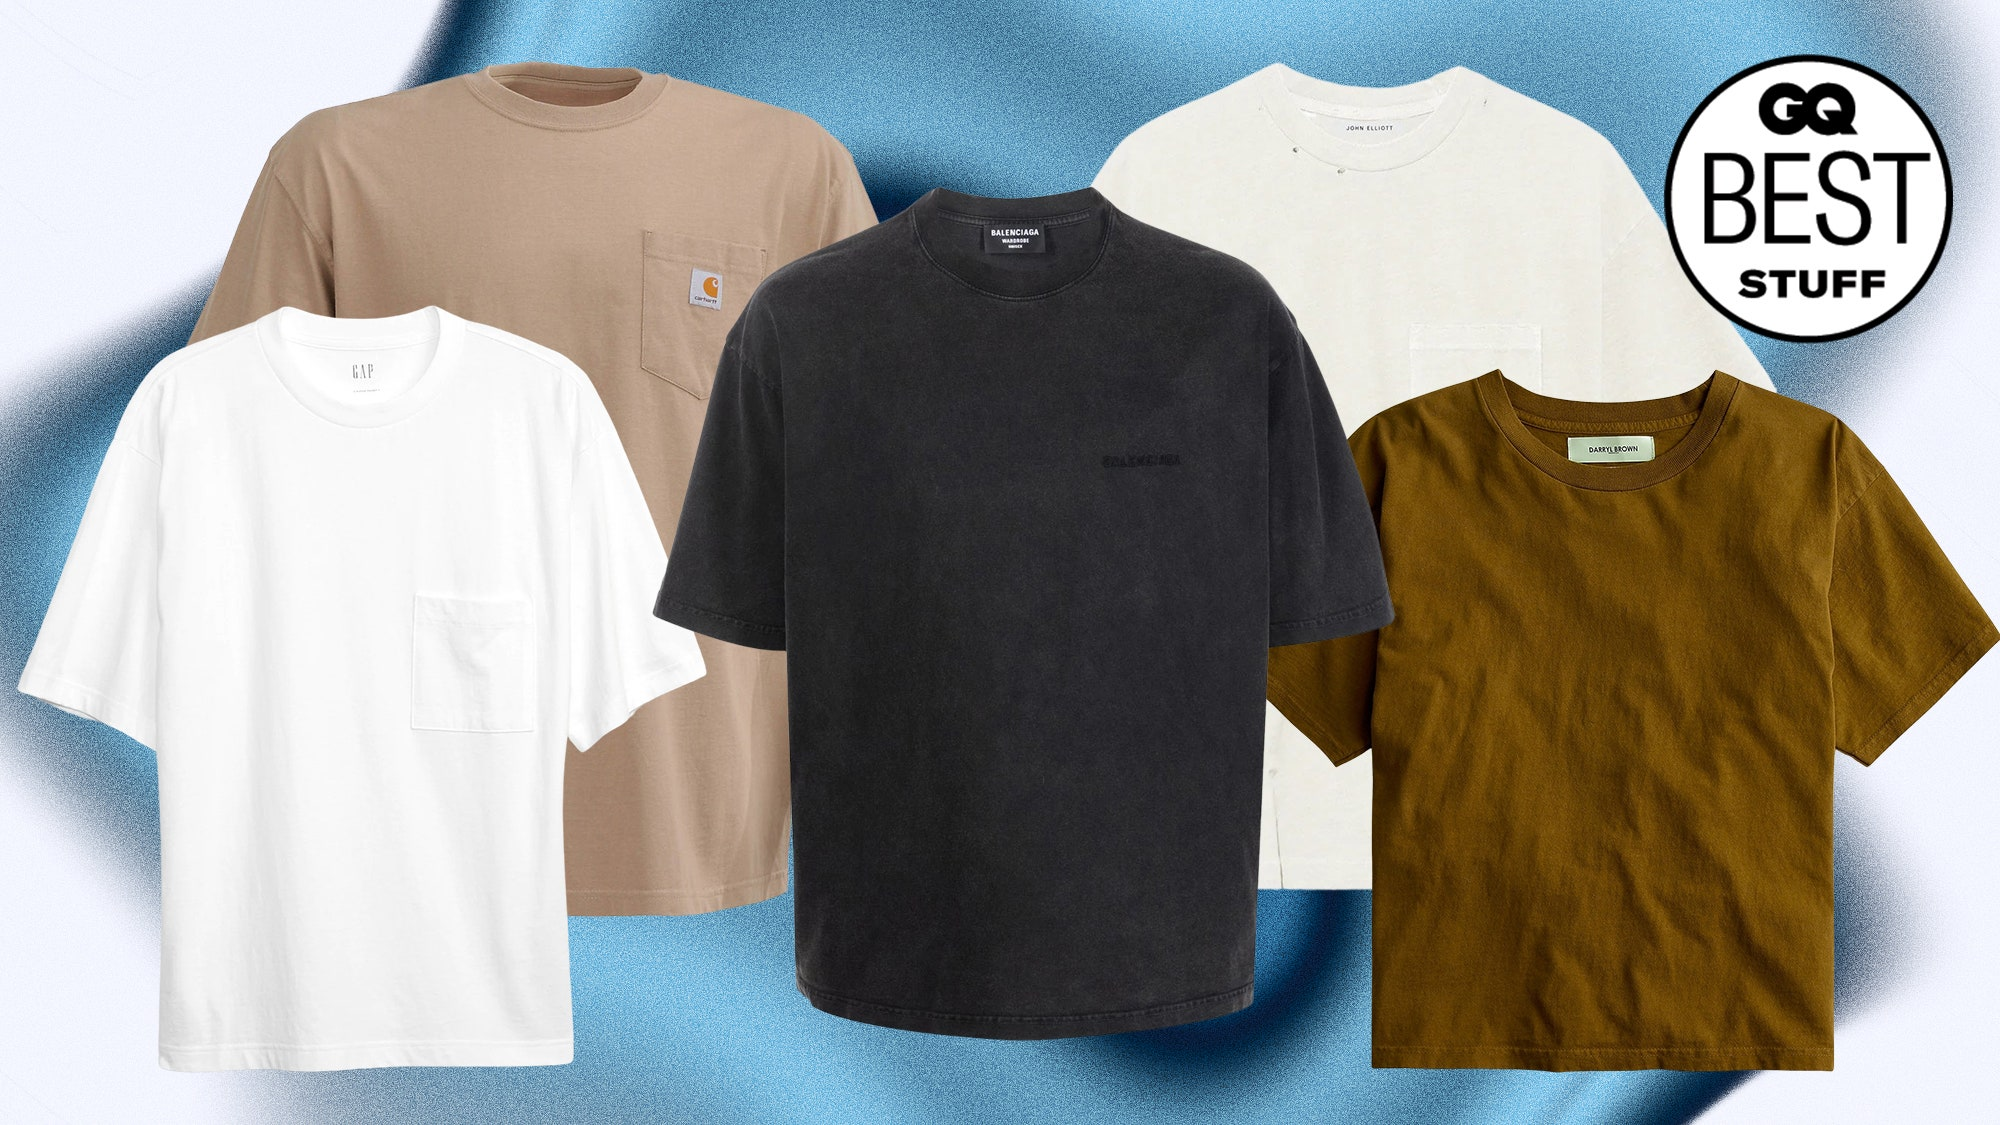casual round-necked tshirt: (657, 203, 1396, 1030), (1113, 56, 1777, 887), (26, 305, 712, 1081), (1261, 374, 1992, 1067), (240, 67, 815, 919)
